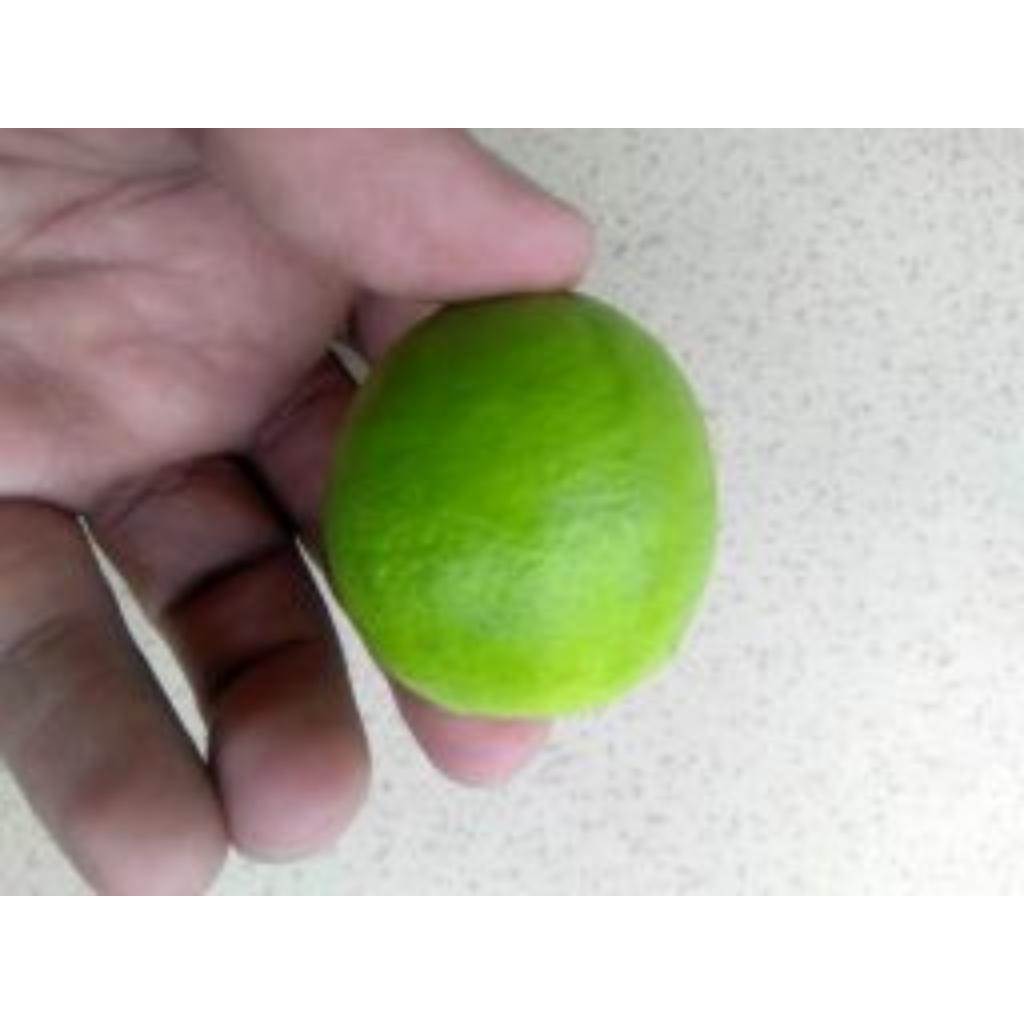lemon: (324, 294, 716, 715)
